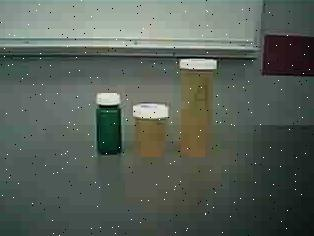Bottle A: (177, 53, 219, 162)
Bottle B: (130, 100, 172, 158)
Bottle C: (92, 88, 126, 156)
